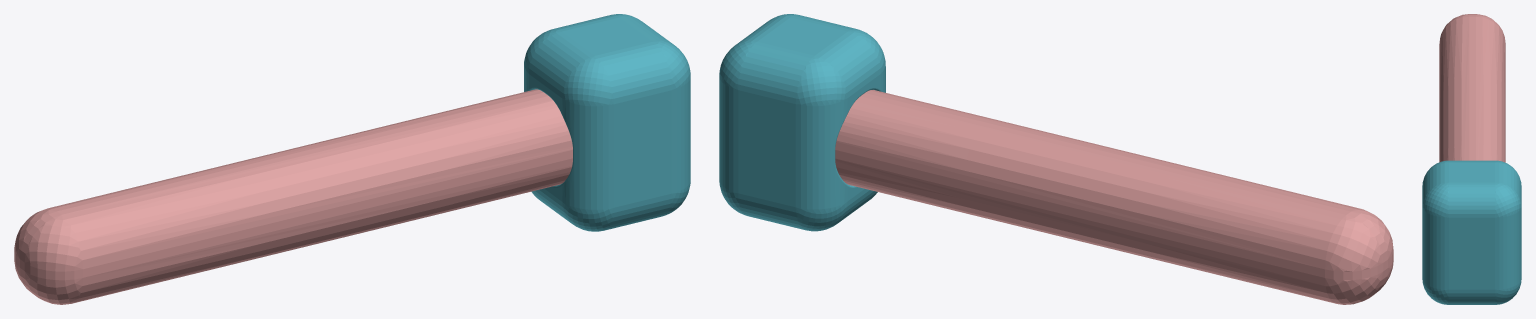
File: hammer.fbx
3 renders of one model, left to right at view 1: azimuth 30°, elevation 25°; view 2: azimuth 150°, elevation 25°; view 3: azimuth 270°, elevation 25°, orthographic. The views are drawn at different scales.
Visible parts, largest first — view 1: Body5; view 2: Body5; view 3: Body5.
Part boxes in pixels (<box>): Body5: <box>14,14,690,304</box>; Body5: <box>719,14,1393,304</box>; Body5: <box>1422,14,1521,304</box>.
Bounding box in the file's own units: 207 × 52.74 × 39.55.
